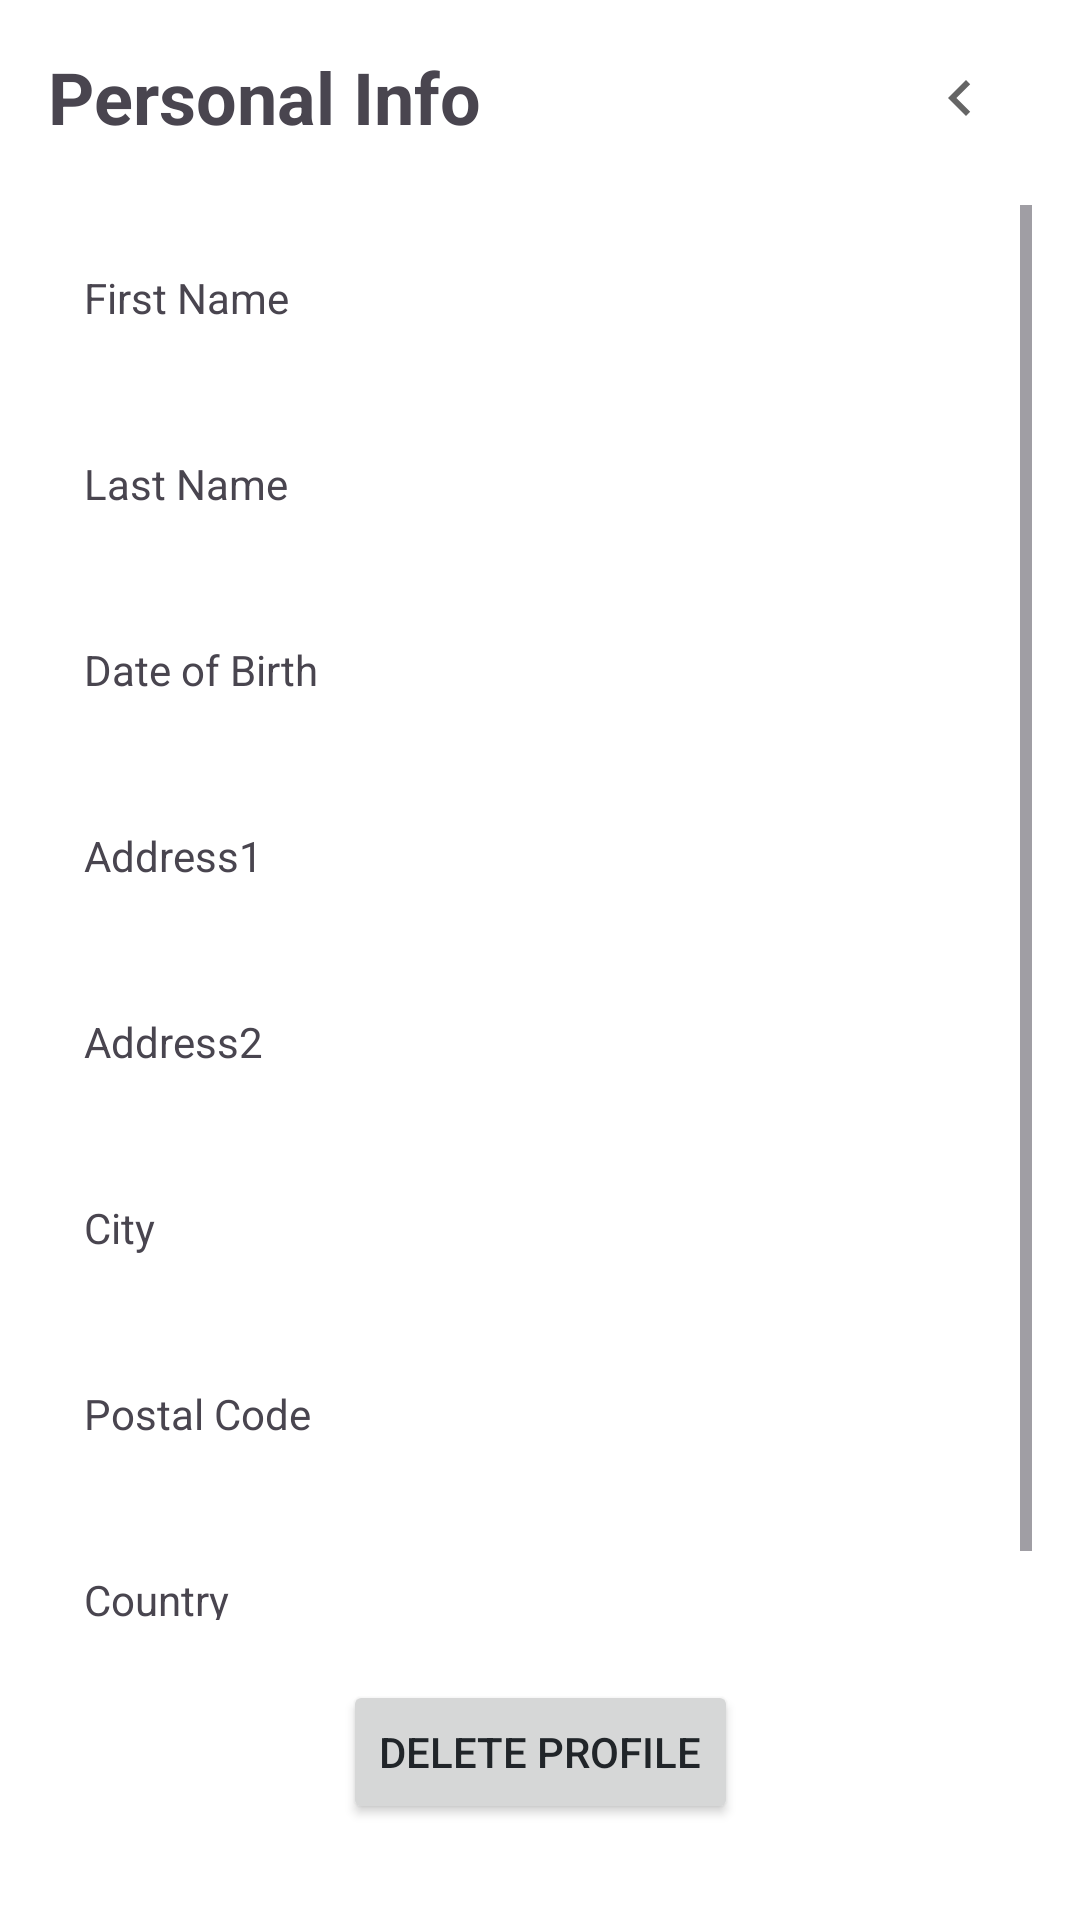

Where to tap for icons on this 1080 × 1920 app screen, as (x,y):
back: (959,98)
